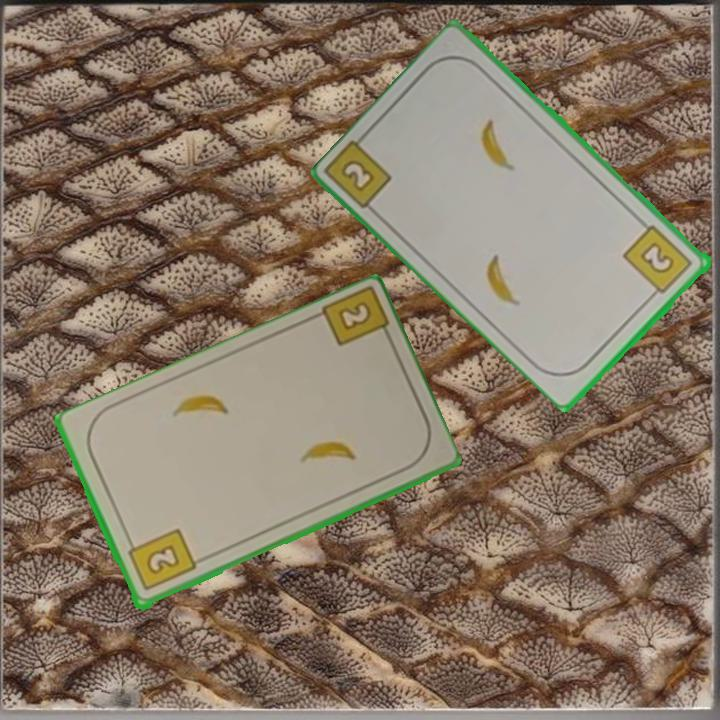2b: (620, 221, 696, 301), (124, 525, 199, 594), (316, 286, 396, 350), (338, 155, 379, 195)
